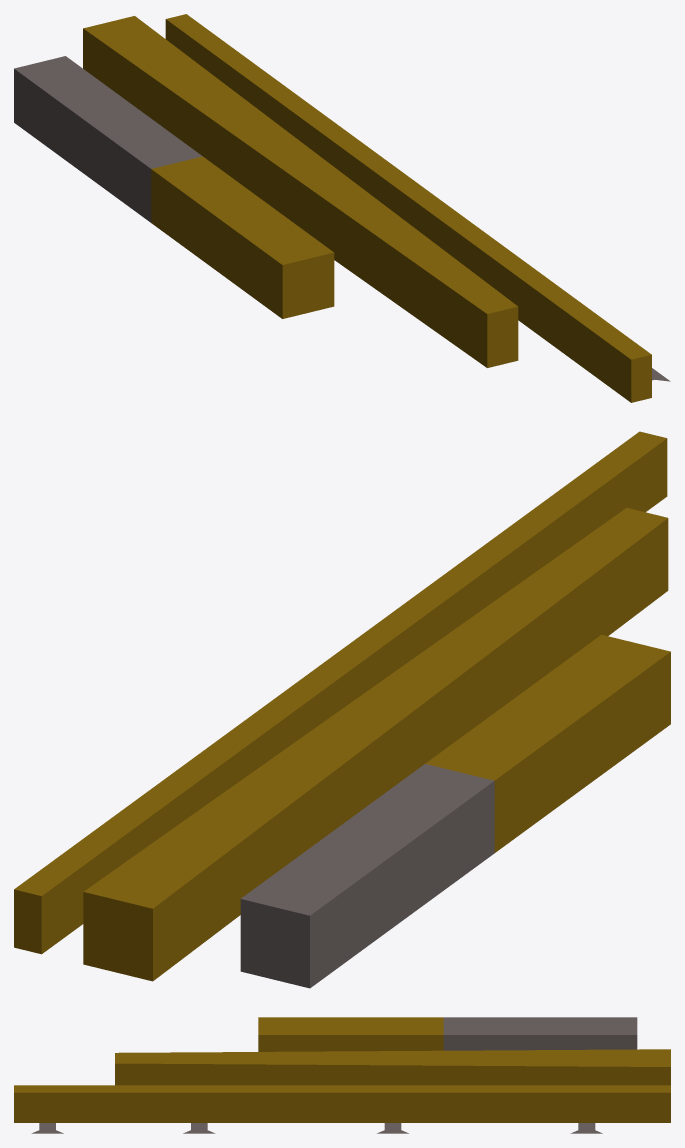
File: inv_fly_fishing_rod.obj
3 views of the same model, one above another, from view 1: azimuth 30°, elevation 25°; view 2: azimuth 150°, elevation 25°; view 3: azimuth 270°, elevation 25° (orthographic). The views are drawn at different scales.
Bounding box in the file's own units: 0.1719 × 0.0391 × 0.6094.
